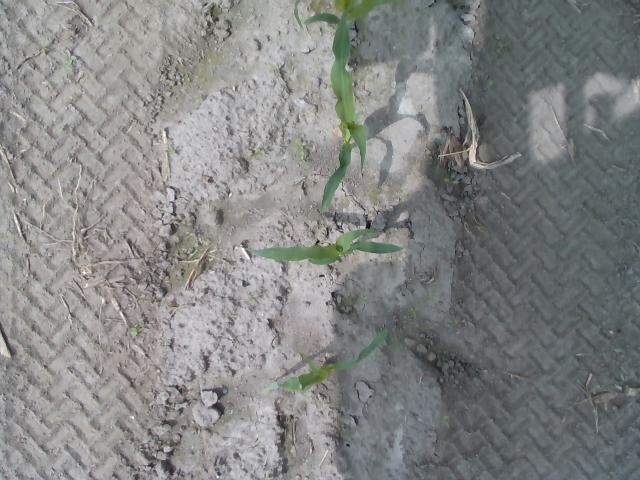Maize: (320, 10, 368, 206), (262, 329, 388, 391), (249, 227, 404, 266), (295, 0, 400, 28)
Weeds: (61, 48, 76, 65), (130, 320, 144, 338), (295, 142, 307, 161), (442, 177, 460, 185), (410, 306, 420, 319), (253, 147, 264, 158), (439, 416, 451, 426), (246, 298, 256, 306)
